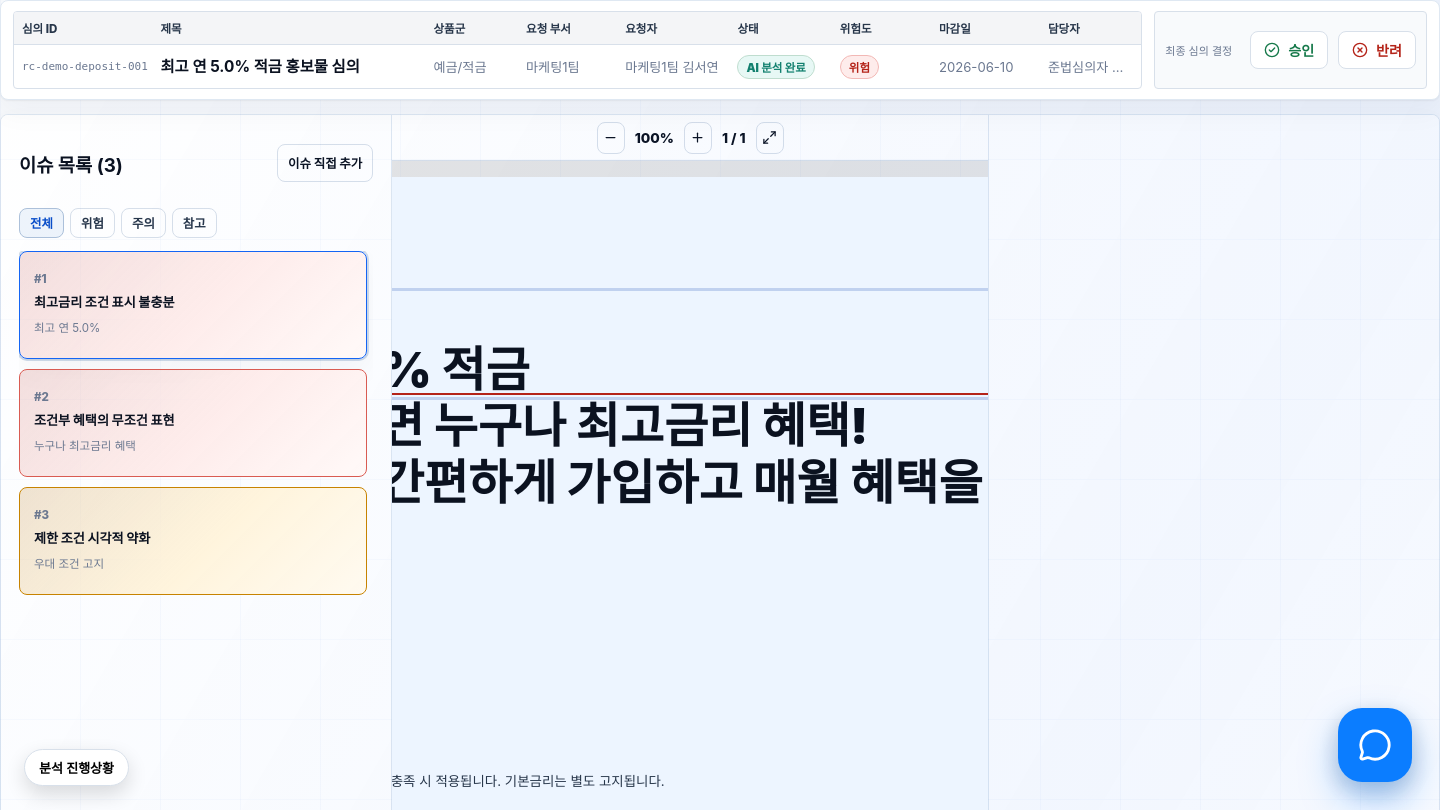
Test: ReviewDetailWorkspace › starts chat with an empty input placeholder instead of a hardcoded example answer
Click the button named "근거 채팅 열기". click: (1375, 745)
box: [1338, 708, 1412, 782]
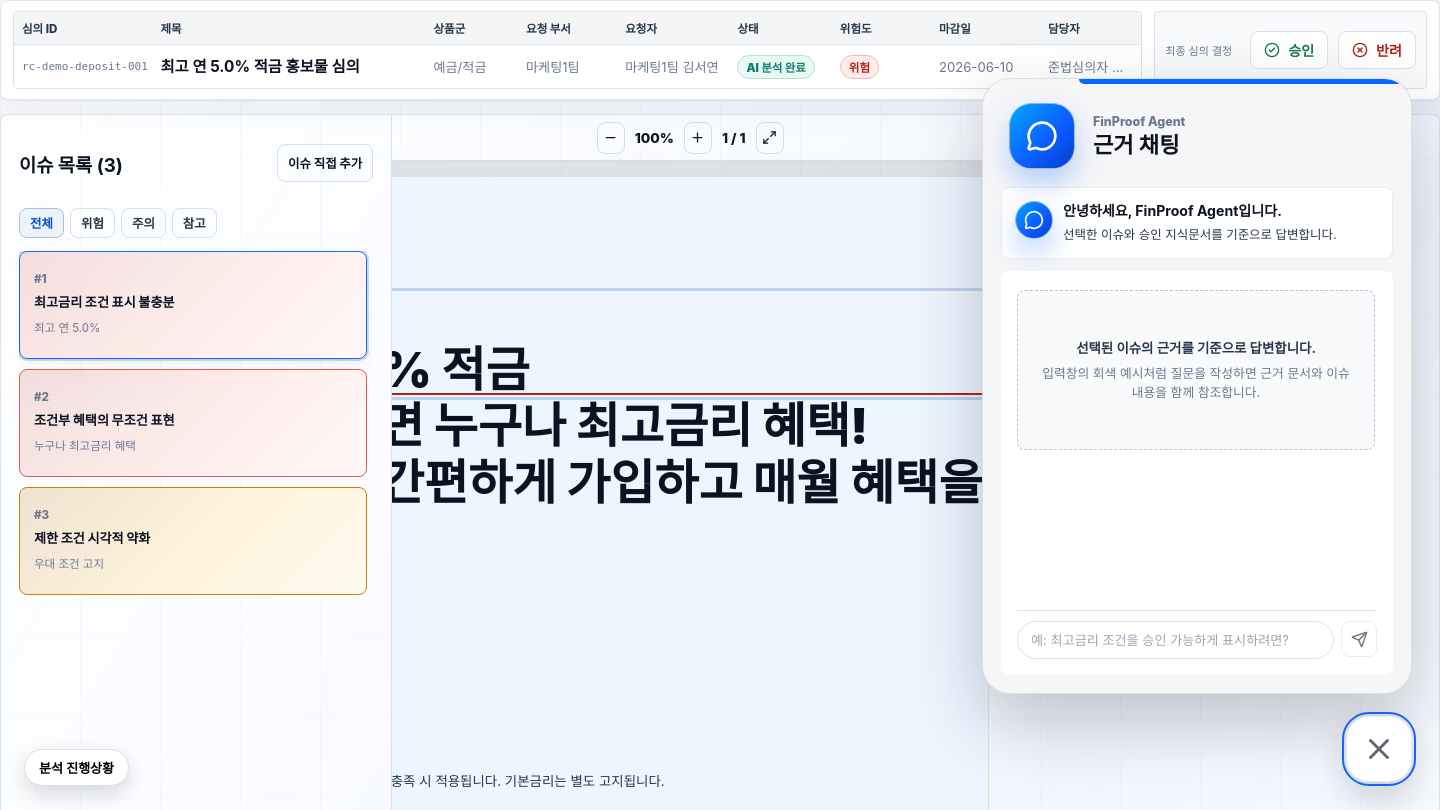
Expected: the field named "RAG question" is empty, [1017, 621, 1334, 659]
Expected: the text "선택된 이슈의 근거를 기준으로 답변합니다." is shown, [1076, 340, 1316, 356]
